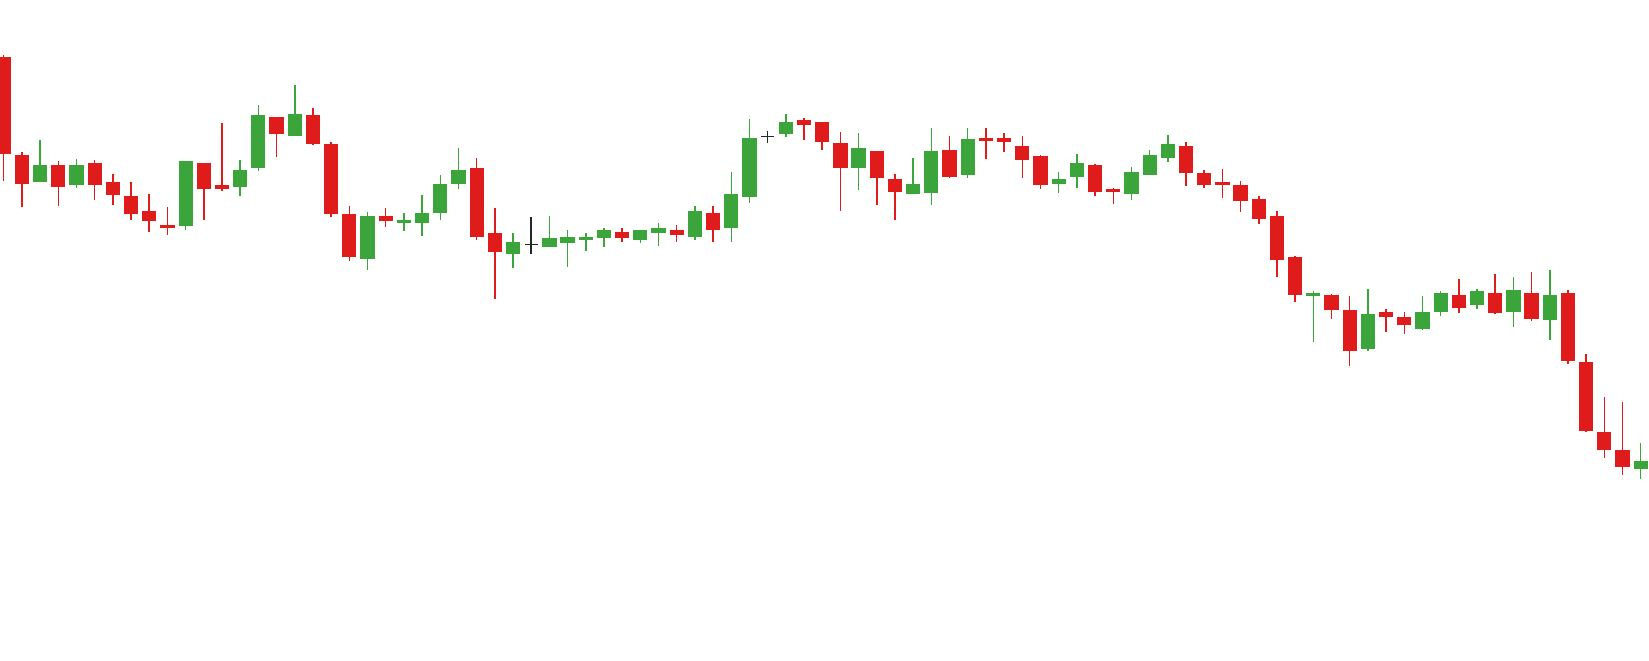buy: (158, 159, 376, 276)
